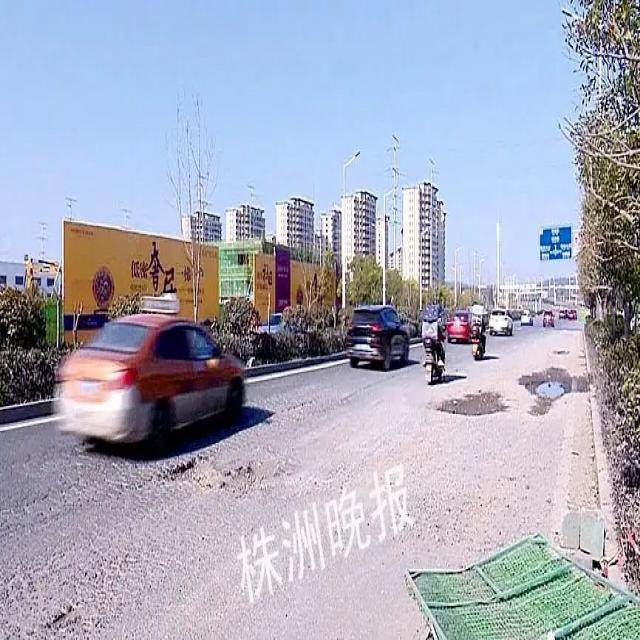Pothole: (447, 389, 504, 422), (523, 374, 577, 408)
